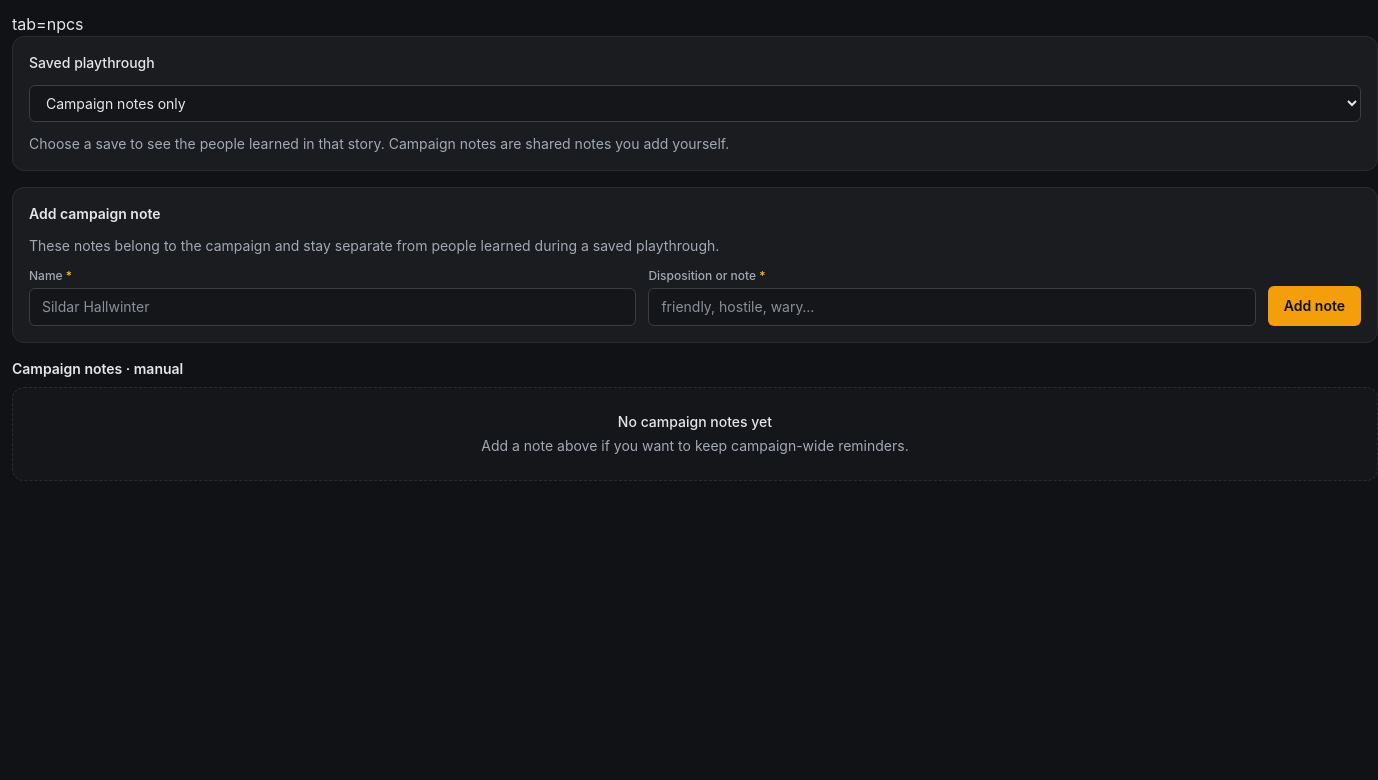
distinguishes the legacy_untracked empty state
Select "Session 1 · Oct 13, 2026, 10:00 AM" in the dropdown with id "npc-session": x=695, y=104 [29,85,1361,122]
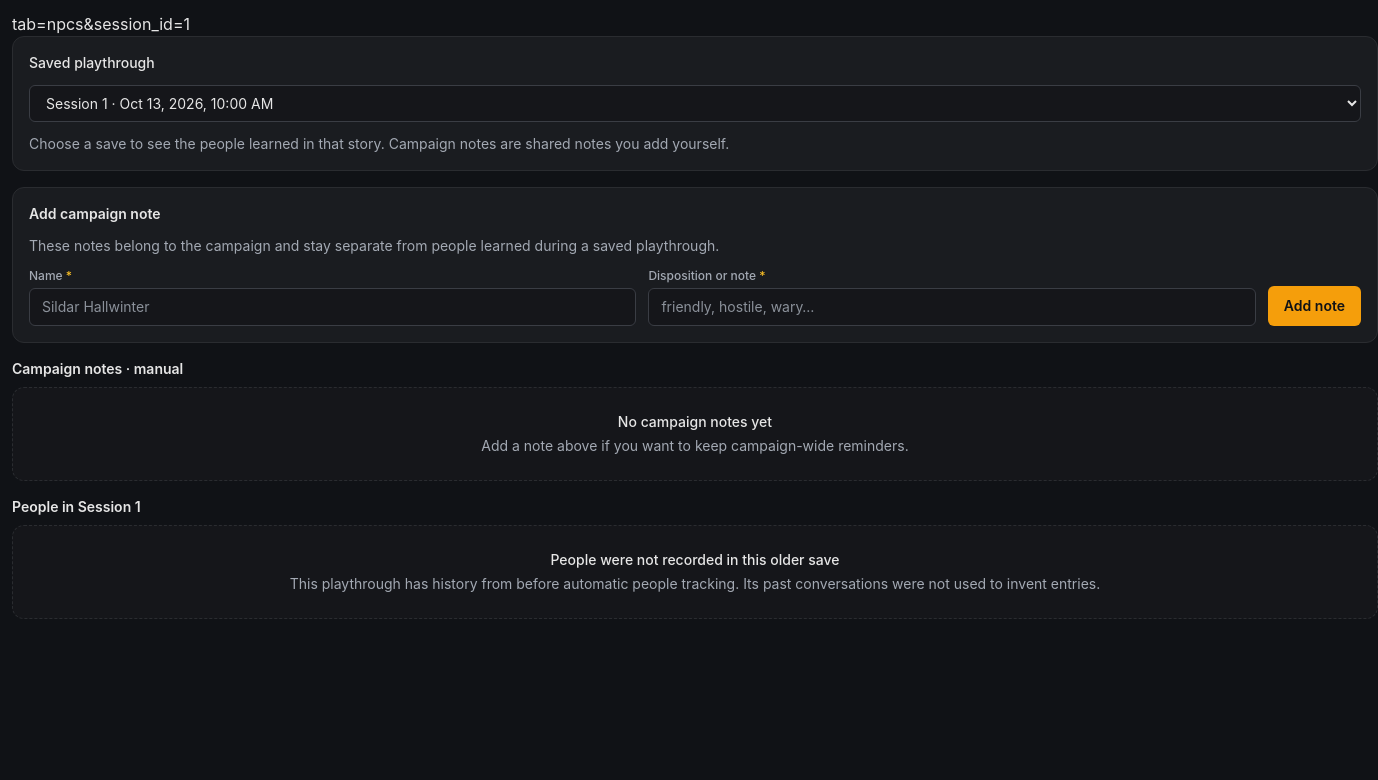
Check: the text "People were not recorded in this older save" is shown, box [550,551,840,568]
